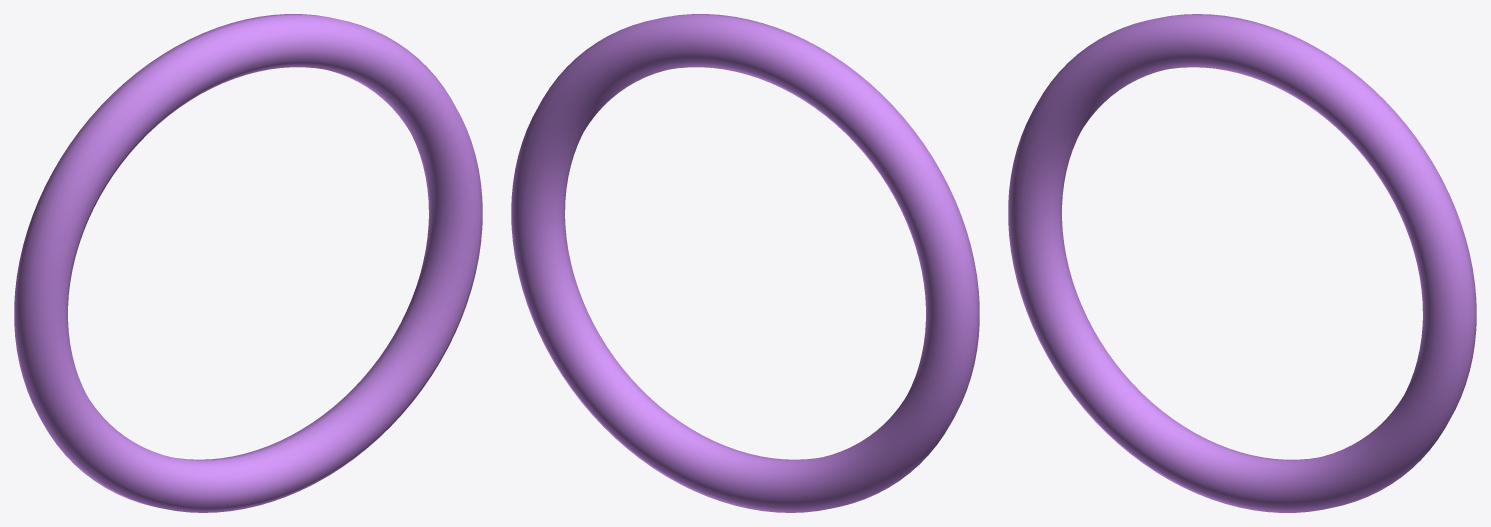
Rendered from circle-CpVtJFB9.glb.
3 views of the same model, side by side, from view 1: azimuth 30°, elevation 25°; view 2: azimuth 150°, elevation 25°; view 3: azimuth 330°, elevation 25° (orthographic).
Visible parts, largest first — view 1: R3D_circle_Body_0; view 2: R3D_circle_Body_0; view 3: R3D_circle_Body_0.
Part boxes in pixels (left/top/right/bottom): R3D_circle_Body_0: left=14, top=14, right=482, bottom=512; R3D_circle_Body_0: left=511, top=14, right=979, bottom=512; R3D_circle_Body_0: left=1008, top=14, right=1476, bottom=512.
Bounding box in the file's own units: 1.78 × 1.78 × 0.18.
